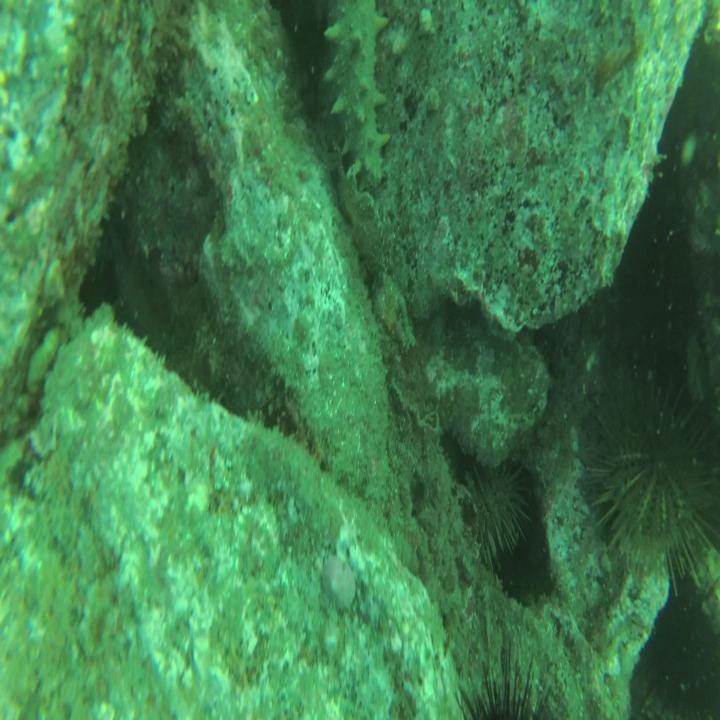echinus: (589, 364, 720, 595), (629, 600, 720, 720), (456, 454, 536, 573), (455, 644, 561, 720)
holothurian: (319, 0, 390, 196)
